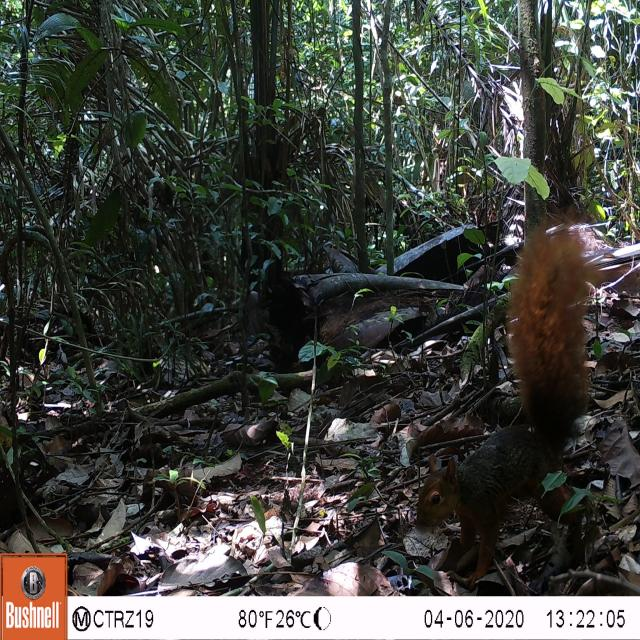Squirrel: (361, 226, 620, 584)
